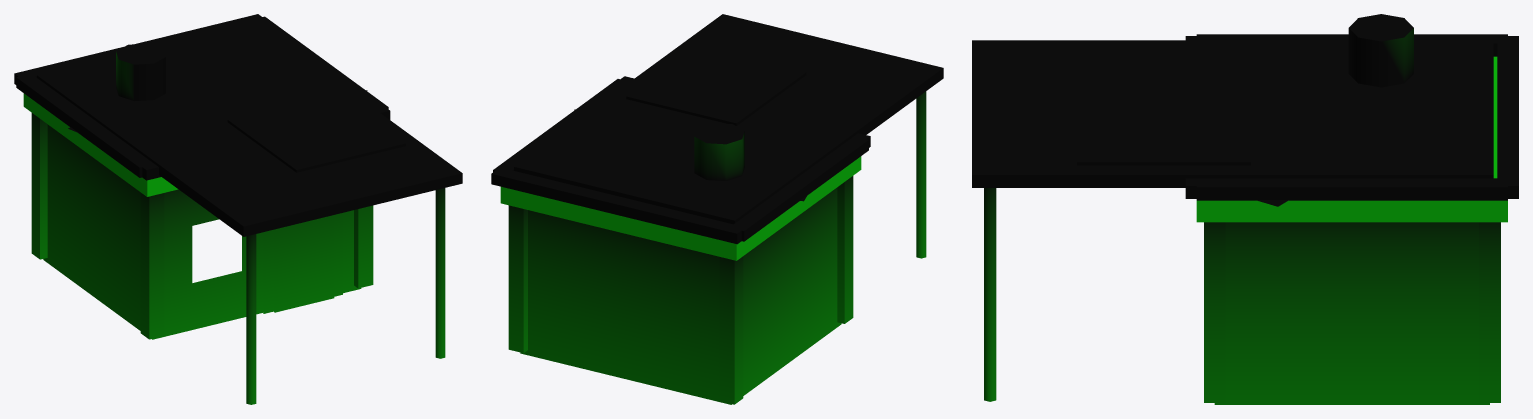
File: singlecivlivingd.glb
3 renders of one model, left to right at view 1: azimuth 30°, elevation 25°; view 2: azimuth 150°, elevation 25°; view 3: azimuth 270°, elevation 25°, orthographic. The views are drawn at different scales.
Visible parts, largest first — view 1: lod0; view 2: lod0; view 3: lod0.
Part boxes in pixels (x1,y1,x2,y2): lod0: [14, 14, 462, 404]; lod0: [491, 14, 943, 404]; lod0: [972, 14, 1518, 404].
Size of what is drawn, in the model's own units: 5.3 by 4.3 by 7.55.
